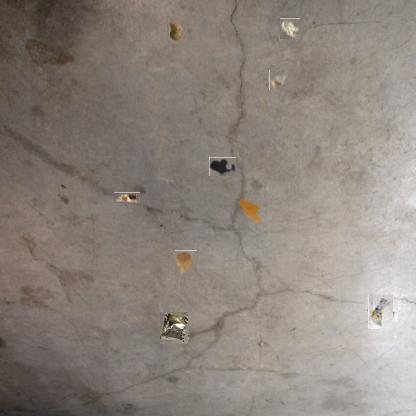dirty: (160, 312, 188, 344), (366, 298, 396, 327), (167, 16, 187, 44), (175, 251, 198, 274), (280, 19, 301, 39), (269, 71, 289, 90), (114, 192, 140, 203)
liquid: (238, 197, 262, 223), (209, 157, 236, 176)
